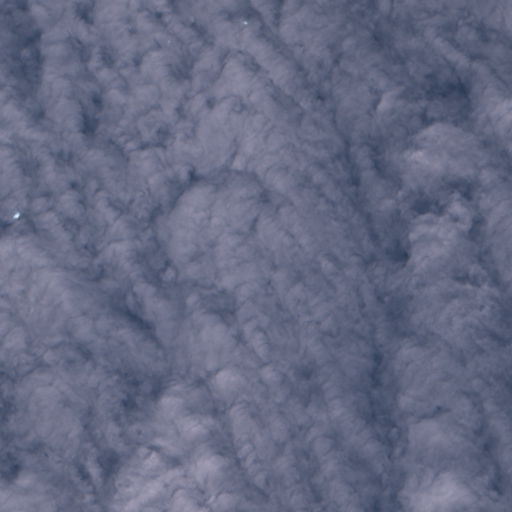Iceberg: (13, 211, 19, 218), (244, 22, 247, 24), (168, 41, 169, 42)
